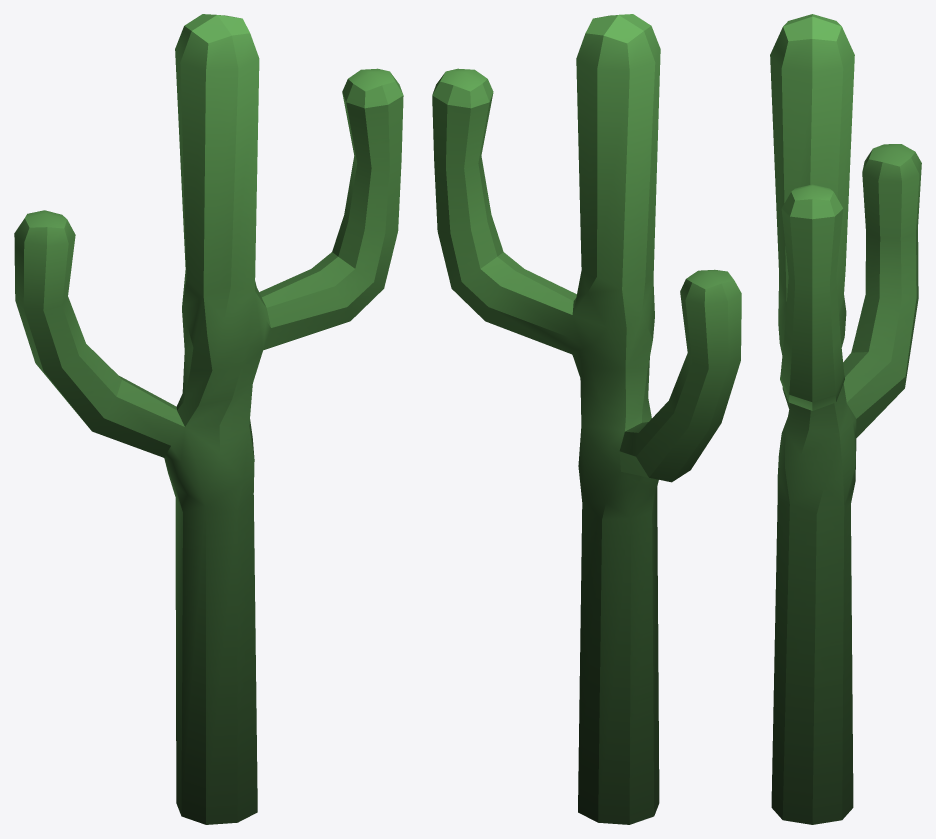
The model's file is Cactus_A_1.fbx.
3 renders of one model, left to right at view 1: azimuth 30°, elevation 25°; view 2: azimuth 150°, elevation 25°; view 3: azimuth 270°, elevation 25°, orthographic.
Visible parts, largest first — view 1: Cactus_A_1; view 2: Cactus_A_1; view 3: Cactus_A_1.
Part boxes in pixels (left/top/right/bottom): Cactus_A_1: left=14, top=14, right=403, bottom=824; Cactus_A_1: left=432, top=14, right=741, bottom=824; Cactus_A_1: left=770, top=14, right=921, bottom=824.
Size of the model in its own units: 48.35 by 108 by 18.71.
